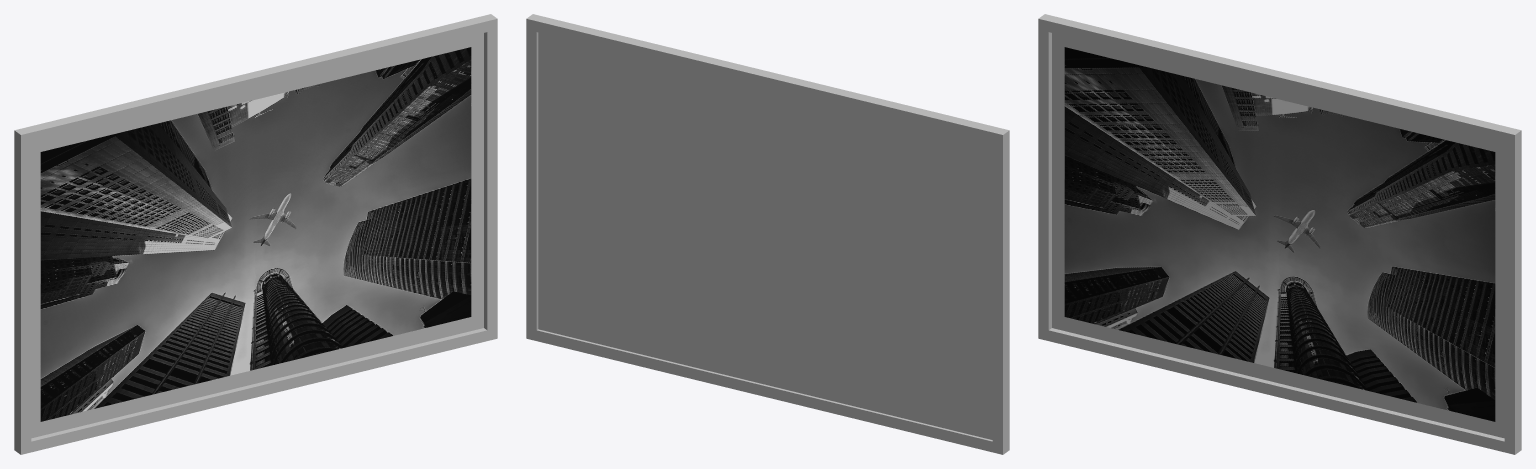
The model's file is Paint_02.FBX.
3 renders of one model, left to right at view 1: azimuth 30°, elevation 25°; view 2: azimuth 150°, elevation 25°; view 3: azimuth 330°, elevation 25°, orthographic.
Visible parts, largest first — view 1: Paint, Paint_02, Border; view 2: Back, Paint_02; view 3: Paint, Paint_02, Border.
Boxes of the visible parts, x1=… form: Paint: x1=40, y1=47, x2=471, y2=421; Paint_02: x1=14, y1=14, x2=497, y2=454; Border: x1=31, y1=33, x2=483, y2=438; Back: x1=538, y1=32, x2=992, y2=439; Paint_02: x1=526, y1=14, x2=1009, y2=454; Paint: x1=1064, y1=47, x2=1495, y2=421; Paint_02: x1=1038, y1=14, x2=1521, y2=454; Border: x1=1052, y1=33, x2=1504, y2=438.
Size of the model in its own units: 2.09 by 1.34 by 0.0493.
